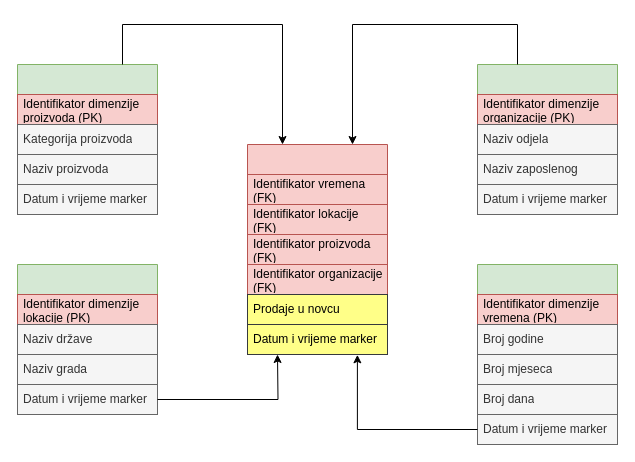
The diagram is 635 pixels wide and 462 high, and some of its shapes have lost their labels. The shapes that lost their labels are listed below. From the top down, each one's box as (x1, y1, x2, y2) in pixels, then its label:
(16, 64, 158, 184): Dimenzija proizvoda
(476, 64, 618, 184): Dimenzija organizacije
(246, 144, 388, 264): Prodaje
(16, 264, 158, 384): Dimenzija lokacije
(476, 264, 618, 384): Dimenzija vremena
